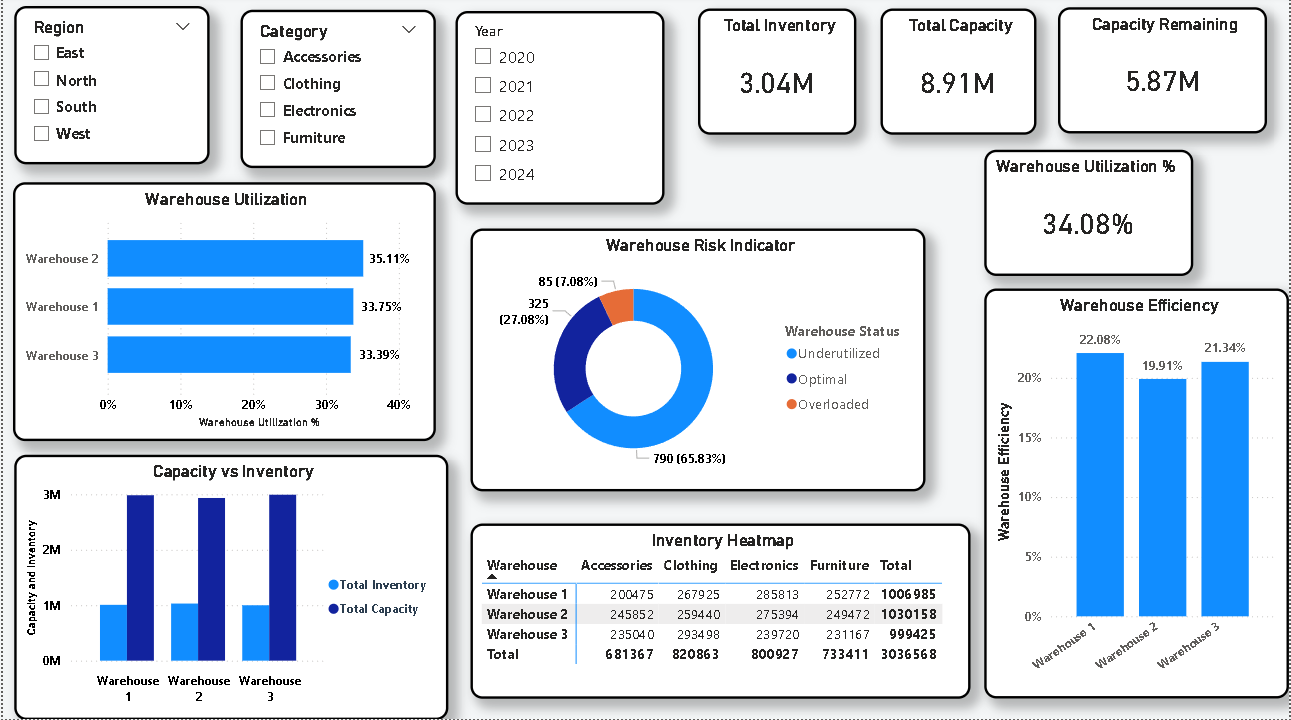

What the dashboard file says about the page in this screenshot:
{"tool":"powerbi","page":{"name":"Warehouse Analytics","canvas":[1280,720],"ordinal":1},"visuals":[{"type":"slicer","fields":{"Values":["Inventory and SupplyChain Dataset.Category"]},"box":[236.4,13.7,194.1,158],"z":0},{"type":"slicer","fields":{"Values":["Inventory and SupplyChain Dataset.Region"]},"box":[11.2,10,194.1,158],"z":1000},{"type":"card","title":"Warehouse Utilization %","fields":{"Values":["Inventory and SupplyChain Dataset.Warehouse Utilization %"]},"box":[976.5,153,207.7,125.6],"z":2000},{"type":"card","title":"Capacity Remaining","fields":{"Values":["Inventory and SupplyChain Dataset.Capacity Remaining"]},"box":[1049.9,11.2,207.7,125.6],"z":3000},{"type":"card","title":"Total Inventory","fields":{"Values":["Inventory and SupplyChain Dataset.Total Inventory"]},"box":[691.6,12.4,158,125.6],"z":4000},{"type":"card","title":"Total Capacity","fields":{"Values":["Inventory and SupplyChain Dataset.Total Capacity"]},"box":[873.3,12.4,155.5,125.6],"z":5000},{"type":"clusteredBarChart","title":"Warehouse Utilization","fields":{"Category":["Inventory and SupplyChain Dataset.Warehouse"],"Y":["Inventory and SupplyChain Dataset.Warehouse Utilization %"]},"box":[10,185.3,420.5,257.5],"z":6000},{"type":"clusteredColumnChart","title":"Capacity vs Inventory","fields":{"Category":["Inventory and SupplyChain Dataset.Warehouse"],"Y":["Inventory and SupplyChain Dataset.Total Inventory","Inventory and SupplyChain Dataset.Total Capacity"]},"box":[11.2,456.5,431.7,263.7],"z":7000},{"type":"pivotTable","title":"Inventory Heatmap","fields":{"Rows":["Inventory and SupplyChain Dataset.Warehouse"],"Columns":["Inventory and SupplyChain Dataset.Category"],"Values":["Inventory and SupplyChain Dataset.Total Inventory"]},"box":[465.2,525,497.6,174.2],"z":8000},{"type":"donutChart","title":"Warehouse Risk Indicator","fields":{"Y":["CountNonNull(Inventory and SupplyChain Dataset.Warehouse)"],"Category":["Inventory and SupplyChain Dataset.Warehouse Status"]},"box":[465.2,231.4,452.8,261.2],"z":9000},{"type":"slicer","fields":{"Values":["Inventory and SupplyChain Dataset.Date.Variation.Date Hierarchy.Year"]},"box":[450.3,14.9,207.7,192.8],"z":10000},{"type":"clusteredColumnChart","title":"Warehouse Efficiency","fields":{"Category":["Inventory and SupplyChain Dataset.Warehouse"],"Y":["Inventory and SupplyChain Dataset.Warehouse Efficiency"]},"box":[976.5,291.1,303.5,408],"z":11000}]}

Visuals, with their boxes in screenshot pixels (x1, y1, x2, y2), scaled from the page's 1280x720 canvas onto the 1291x720 screenshot:
slicer - Inventory and SupplyChain Dataset.Category: (left=238, top=14, right=434, bottom=172)
slicer - Inventory and SupplyChain Dataset.Region: (left=11, top=10, right=207, bottom=168)
"Warehouse Utilization %" card: (left=985, top=153, right=1194, bottom=279)
"Capacity Remaining" card: (left=1059, top=11, right=1268, bottom=137)
"Total Inventory" card: (left=698, top=12, right=857, bottom=138)
"Total Capacity" card: (left=881, top=12, right=1038, bottom=138)
"Warehouse Utilization" clusteredBarChart: (left=10, top=185, right=434, bottom=443)
"Capacity vs Inventory" clusteredColumnChart: (left=11, top=456, right=447, bottom=719)
"Inventory Heatmap" pivotTable: (left=469, top=525, right=971, bottom=699)
"Warehouse Risk Indicator" donutChart: (left=469, top=231, right=926, bottom=493)
slicer - Inventory and SupplyChain Dataset.Date.Variation.Date Hierarchy.Year: (left=454, top=15, right=664, bottom=208)
"Warehouse Efficiency" clusteredColumnChart: (left=985, top=291, right=1290, bottom=699)
